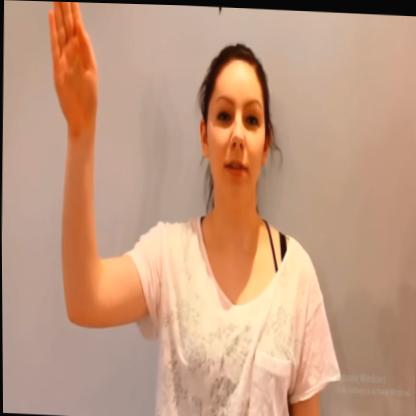Hello: (39, 1, 273, 332)
